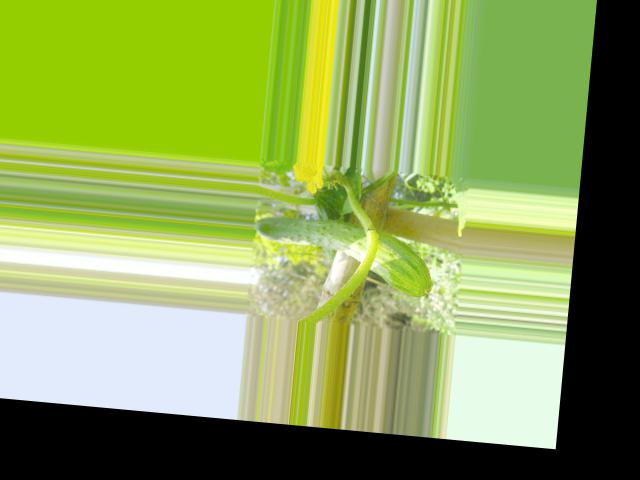cucumber: (249, 213, 436, 297)
